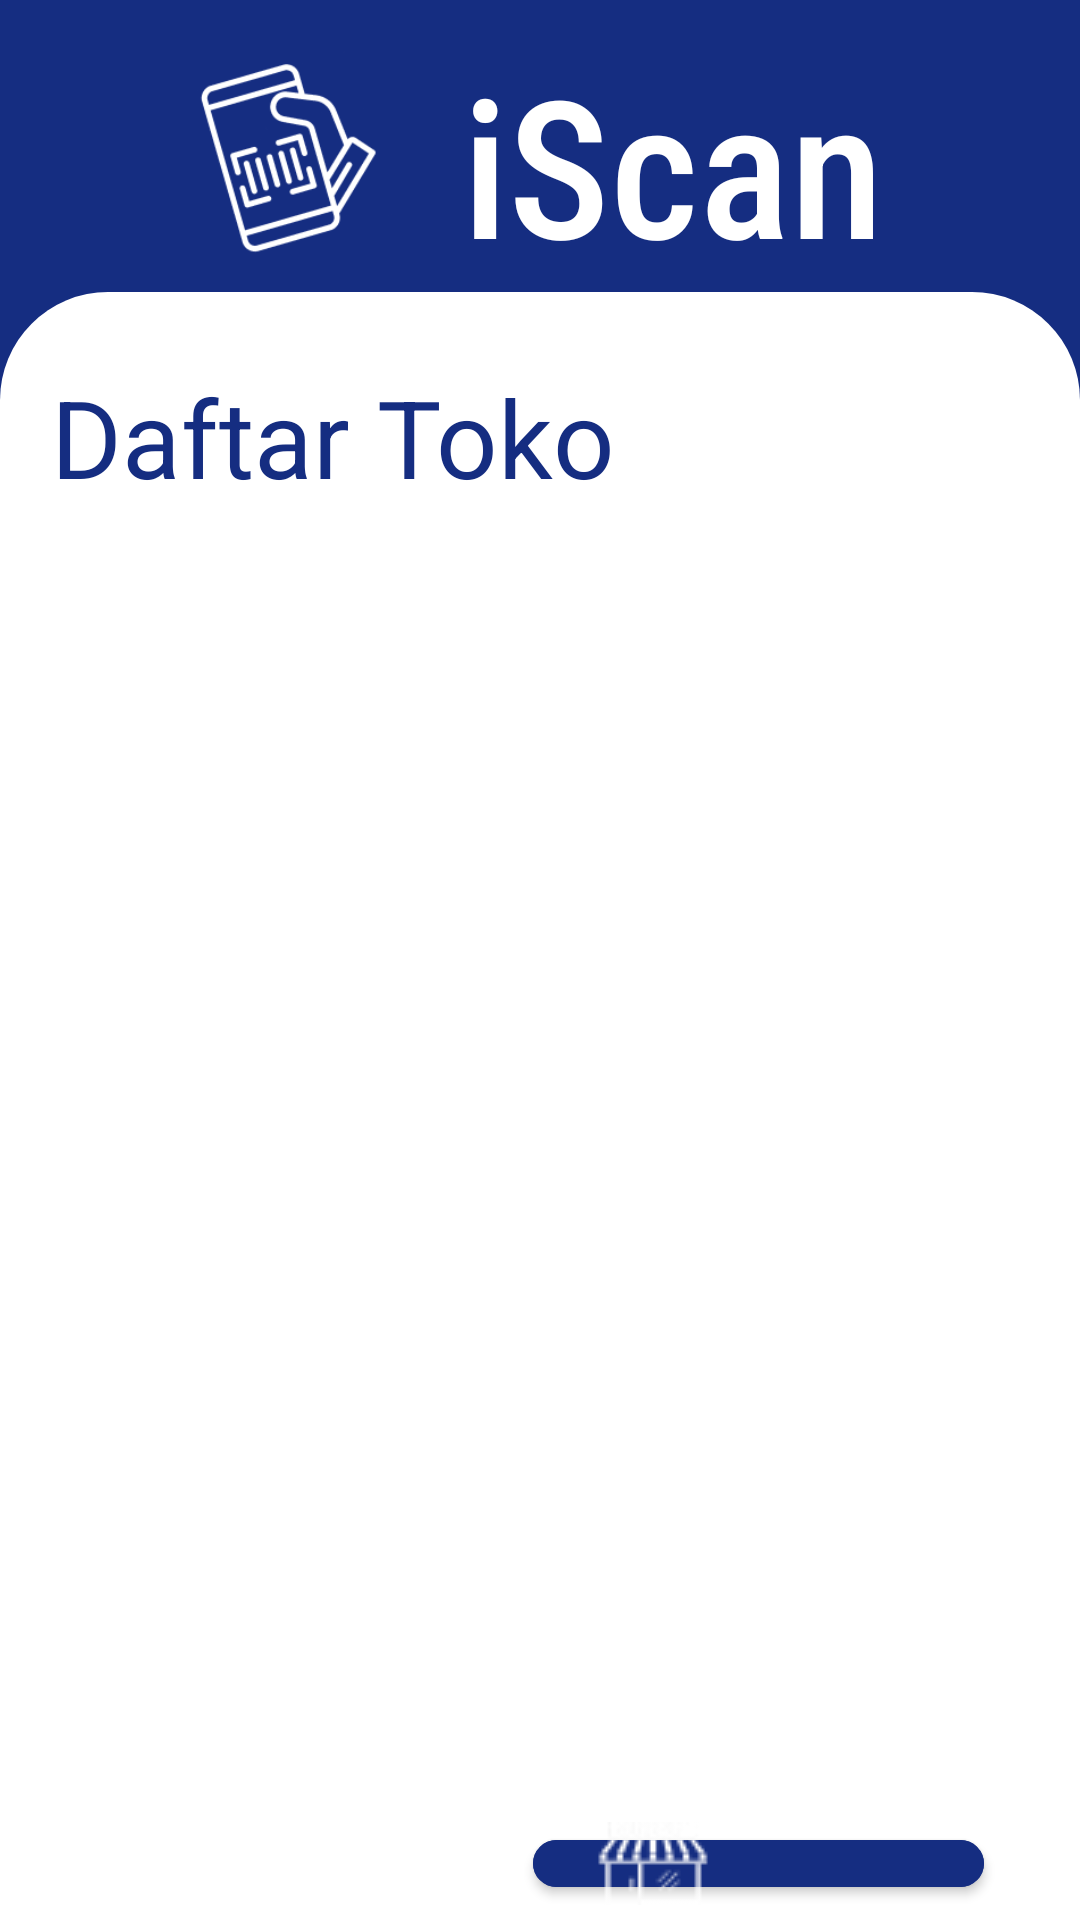

Where to tap for icons on this 1080px x 1920px app screen, as (x,y):
barcode scanner: (288,158)
